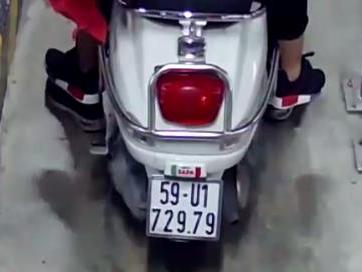num_plate: (144, 175, 222, 242)
